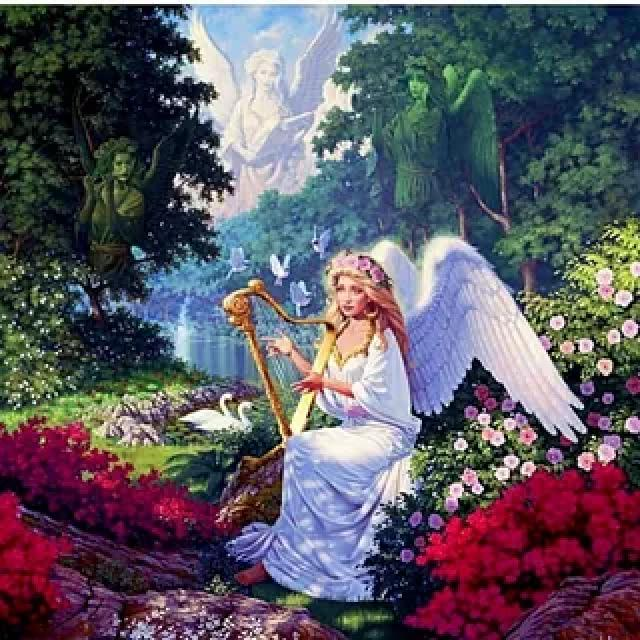angel: (214, 218, 606, 609)
